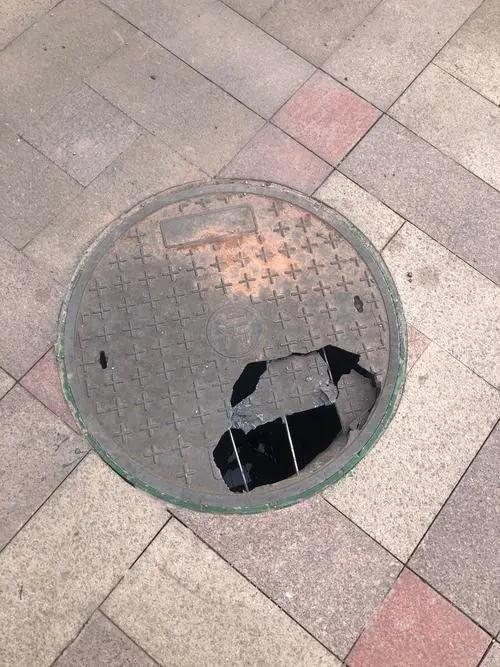wellcover: (73, 179, 416, 531)
